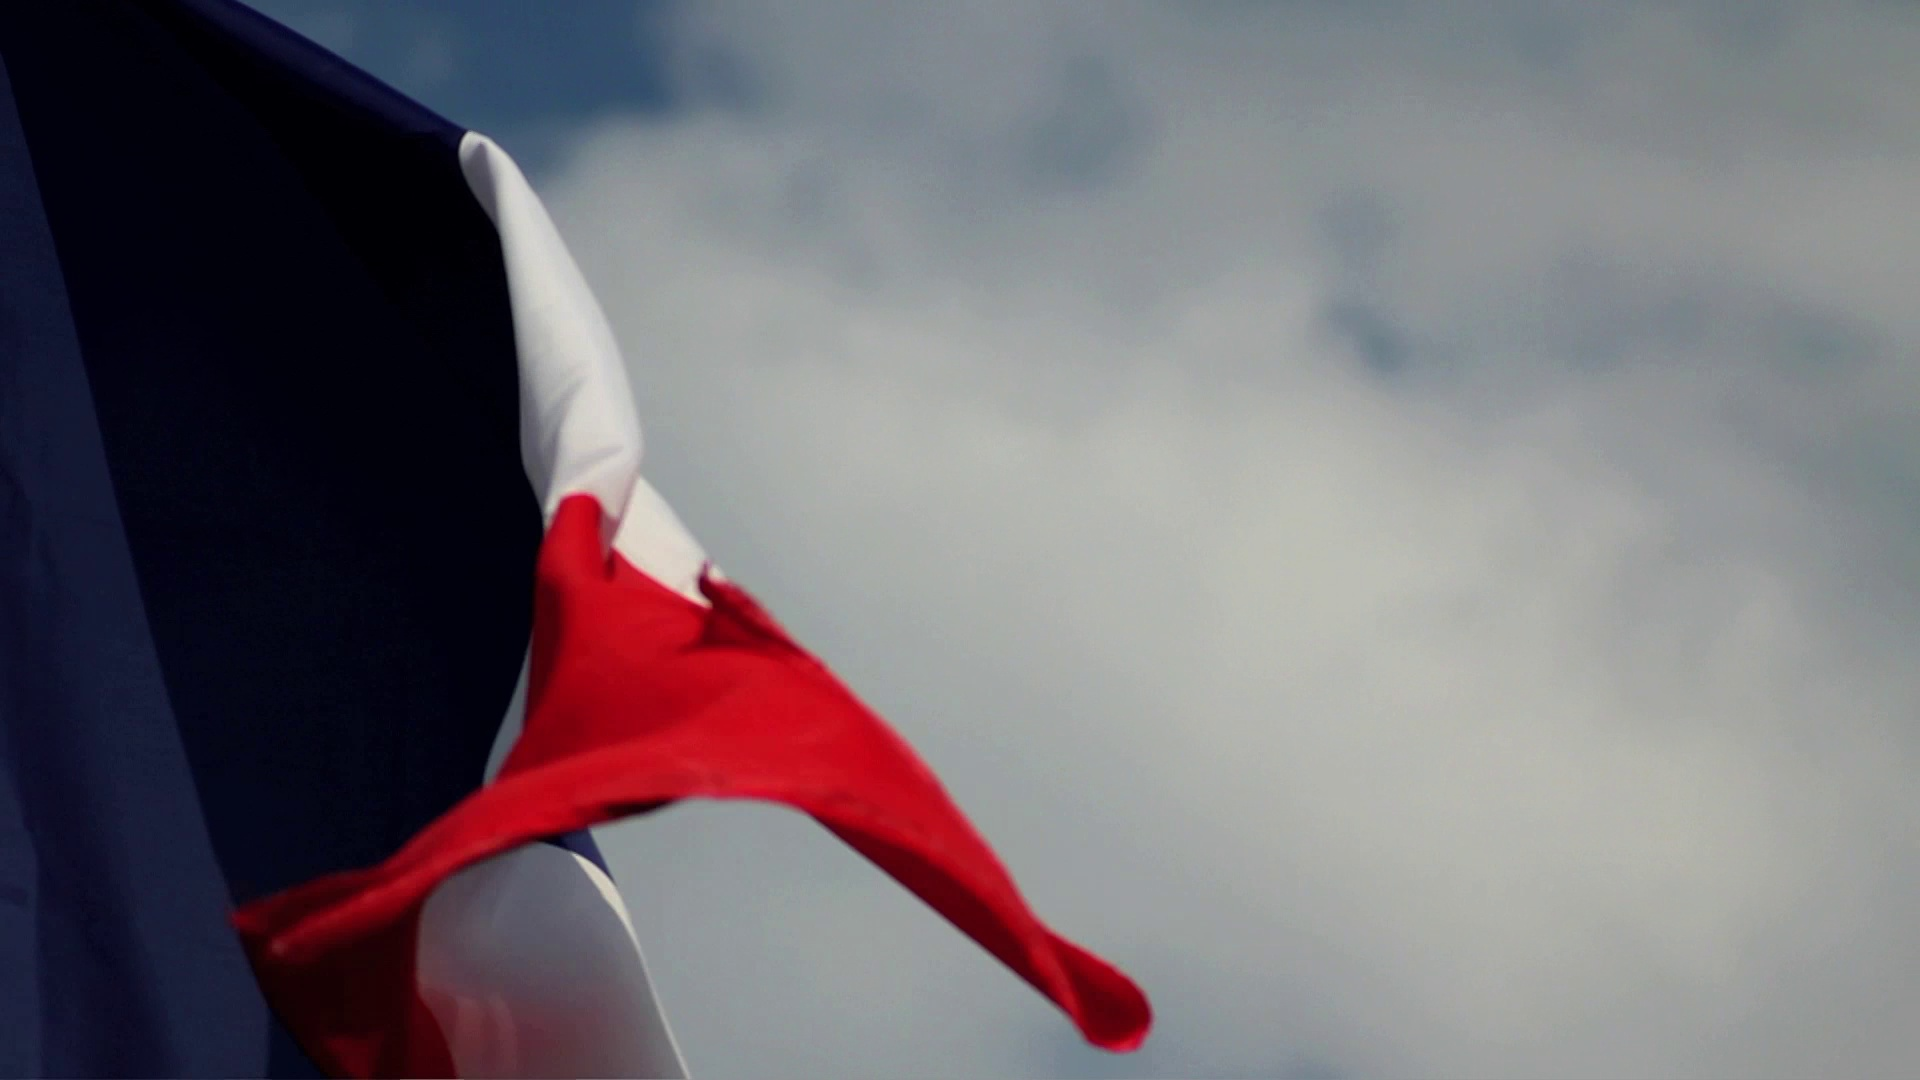French Flag: (1, 1, 1160, 1080)
